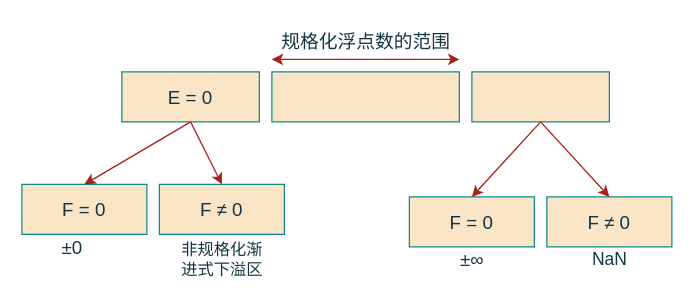
Some shapes in this 694 by 305 pixel diagram are drawn without their labels. The box of each missing label's shape, as (x1, y1, x2, y2) in pixels:
1 ≤ E ≤ 254: (271, 71, 459, 122)
E = 255: (471, 71, 609, 122)
